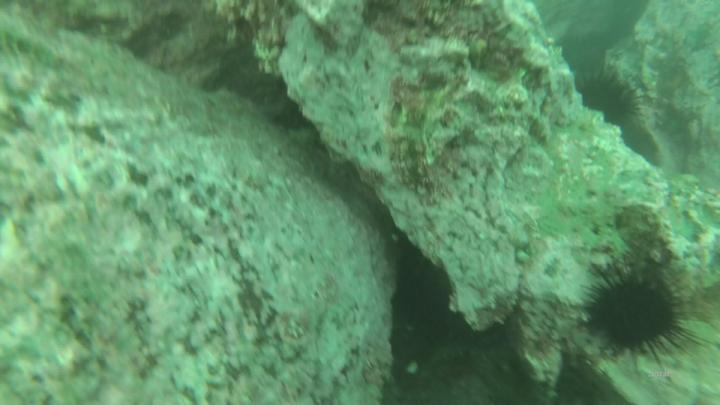echinus: (592, 282, 679, 351), (578, 74, 637, 124)
